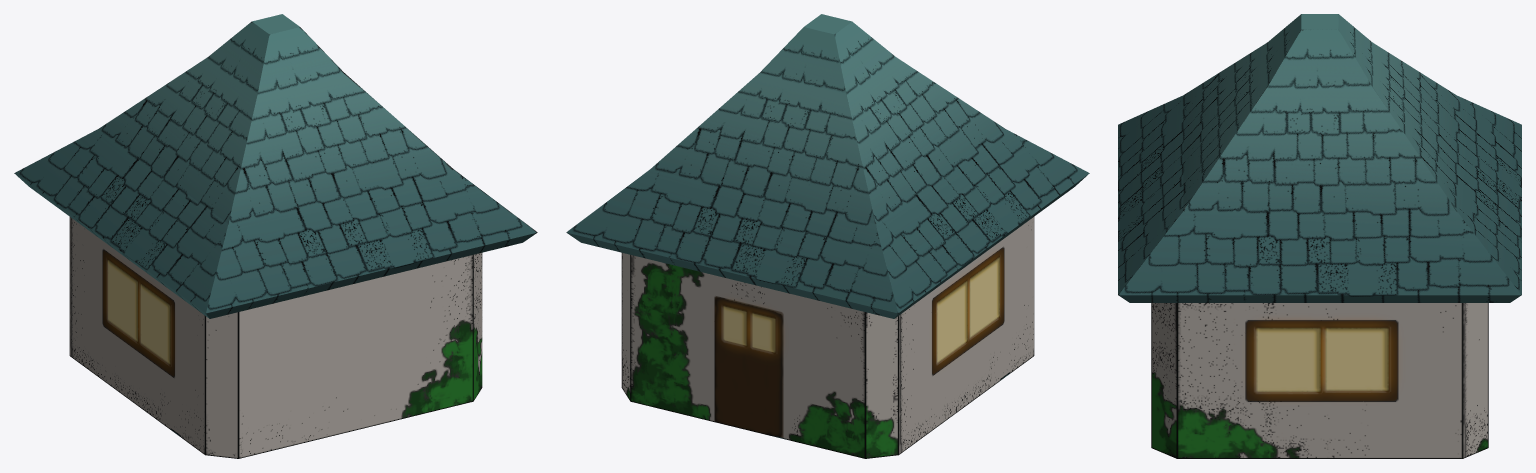
File: house1.obj
3 views of the same model, side by side, from view 1: azimuth 30°, elevation 25°; view 2: azimuth 150°, elevation 25°; view 3: azimuth 270°, elevation 25° (orthographic). The views are drawn at different scales.
Parts seen in each view (by area): view 1: house1; view 2: house1; view 3: house1.
Part boxes in pixels (x1,y1,x2,y2): house1: (14, 14, 537, 458); house1: (566, 14, 1089, 458); house1: (1118, 14, 1521, 458).
Bounding box in the file's own units: 2 × 2 × 2.
